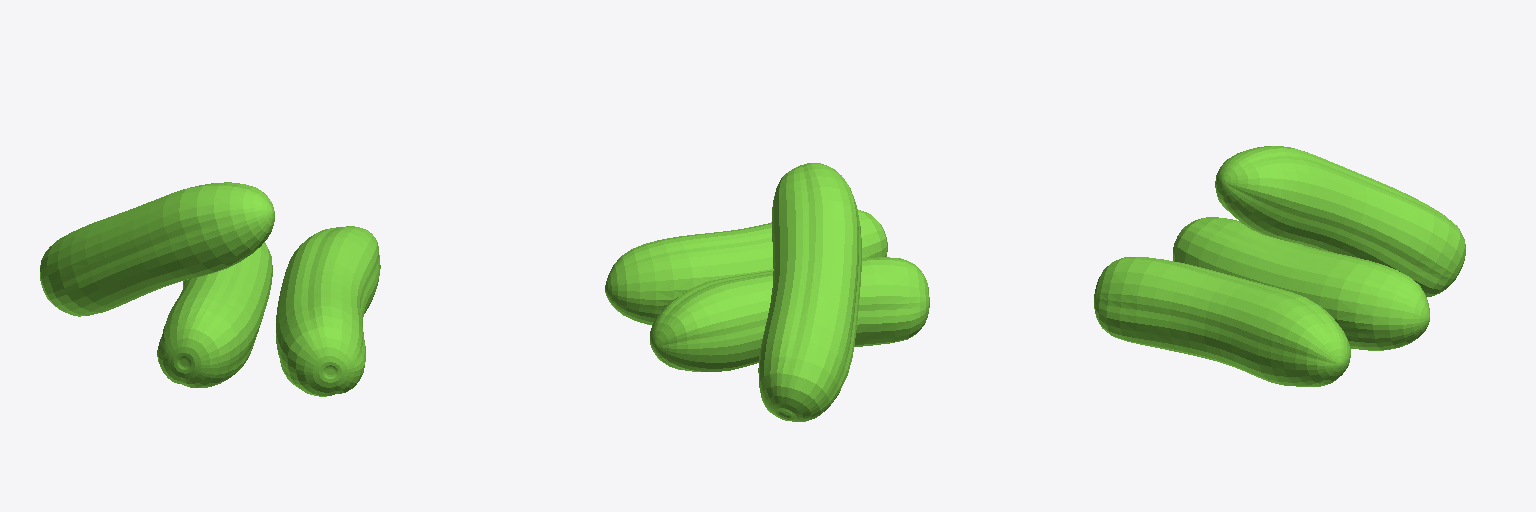
The model's file is Cucumber.obj.
3 renders of one model, left to right at view 1: azimuth 30°, elevation 25°; view 2: azimuth 150°, elevation 25°; view 3: azimuth 270°, elevation 25°, orthographic.
Visible parts, largest first — view 1: Cucumber_02, Cucumber_03, Cucumber_01; view 2: Cucumber_02, Cucumber_01, Cucumber_03; view 3: Cucumber_03, Cucumber_02, Cucumber_01.
Part boxes in pixels (left/top/right/bottom): Cucumber_02: left=40, top=182, right=274, bottom=316; Cucumber_03: left=276, top=226, right=380, bottom=396; Cucumber_01: left=157, top=242, right=272, bottom=387; Cucumber_02: left=758, top=163, right=861, bottom=421; Cucumber_01: left=650, top=257, right=929, bottom=371; Cucumber_03: left=605, top=210, right=887, bottom=324; Cucumber_03: left=1094, top=257, right=1350, bottom=386; Cucumber_02: left=1215, top=146, right=1465, bottom=296; Cucumber_01: left=1173, top=217, right=1429, bottom=350.
Bounding box in the file's own units: 85.1 × 51.16 × 100.